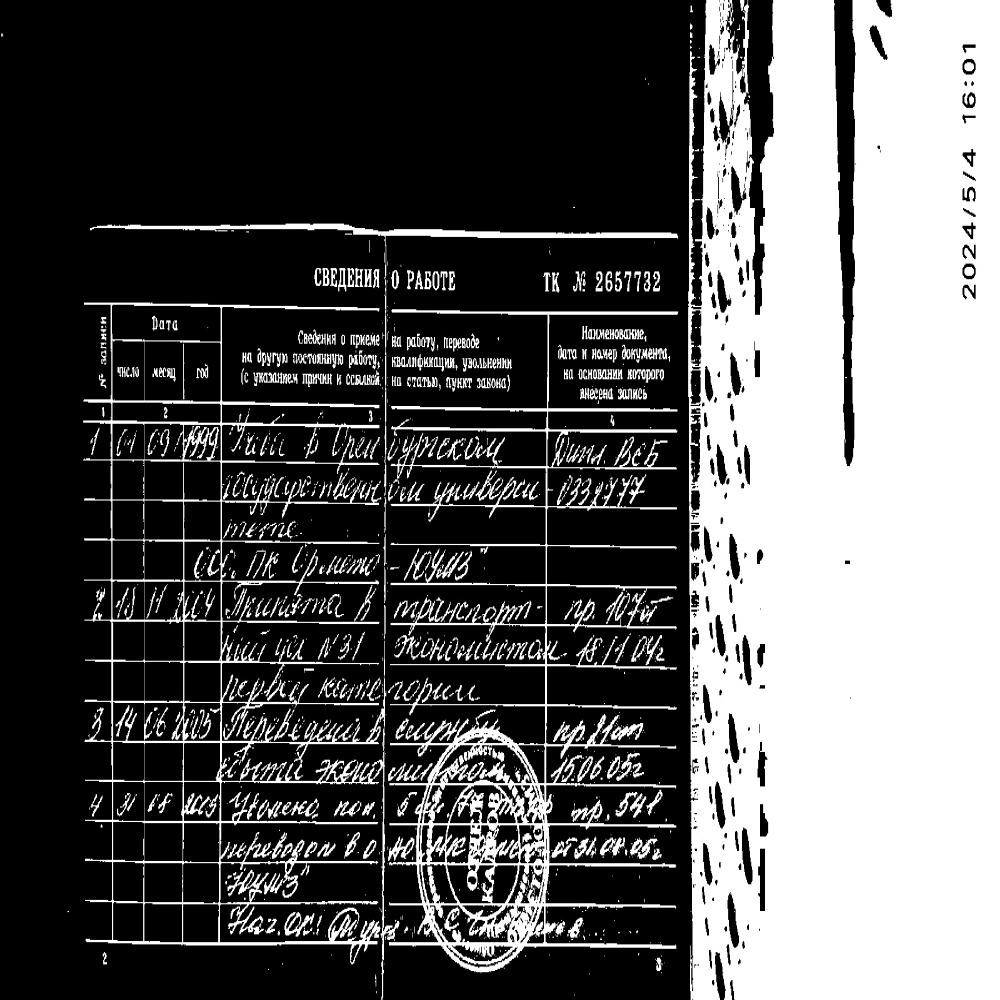rus: (392, 626, 553, 670), (217, 830, 414, 864), (85, 696, 218, 746), (547, 416, 674, 467), (322, 667, 480, 705), (388, 420, 508, 468), (224, 704, 362, 745), (85, 783, 216, 826), (222, 467, 376, 503), (224, 583, 344, 623), (551, 631, 674, 670), (86, 584, 219, 620), (547, 825, 675, 862), (368, 709, 498, 745), (564, 587, 671, 630), (552, 464, 648, 510), (215, 738, 303, 786), (302, 413, 386, 462), (548, 706, 652, 745), (561, 786, 669, 823), (402, 538, 487, 585), (428, 465, 541, 500), (542, 268, 663, 300), (218, 866, 316, 905), (392, 595, 530, 622), (544, 751, 652, 784), (225, 410, 291, 463), (221, 908, 323, 941), (290, 545, 383, 581), (278, 630, 376, 663), (221, 786, 318, 819), (313, 747, 384, 784), (225, 512, 308, 541), (312, 262, 379, 297), (402, 260, 464, 296), (221, 673, 306, 697), (221, 627, 274, 661), (579, 322, 648, 344), (383, 470, 421, 507), (390, 762, 429, 798), (247, 546, 285, 581), (330, 794, 374, 823), (198, 541, 232, 578), (352, 583, 380, 627), (390, 352, 455, 370), (390, 371, 442, 392), (296, 324, 338, 348), (245, 367, 303, 384), (462, 356, 515, 374), (563, 367, 625, 381), (145, 314, 187, 334), (392, 332, 438, 349), (344, 370, 384, 389), (241, 352, 288, 368), (294, 349, 344, 364), (115, 358, 141, 386), (341, 331, 382, 348), (442, 331, 480, 349), (620, 349, 668, 363), (153, 360, 180, 384), (616, 385, 650, 403), (477, 374, 507, 394), (628, 367, 667, 382), (579, 386, 613, 402), (444, 375, 476, 391), (304, 371, 334, 388), (582, 346, 618, 360), (349, 352, 379, 367), (557, 346, 580, 362), (388, 266, 399, 295), (194, 361, 209, 381)
